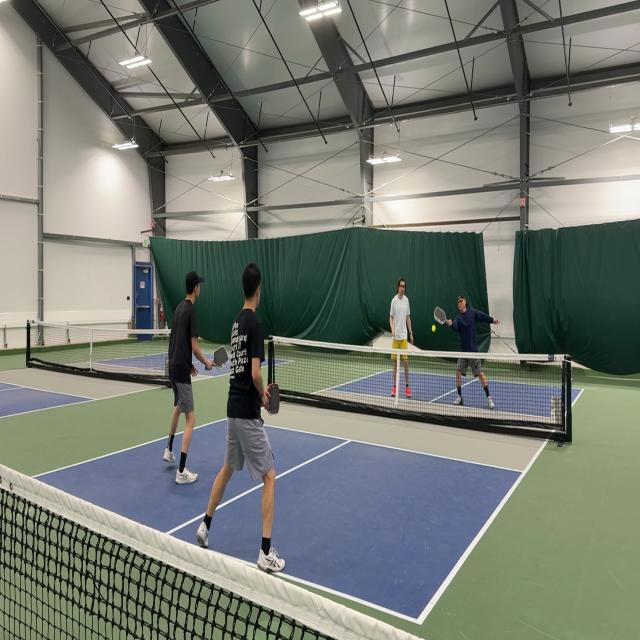ball: (431, 324, 436, 334)
